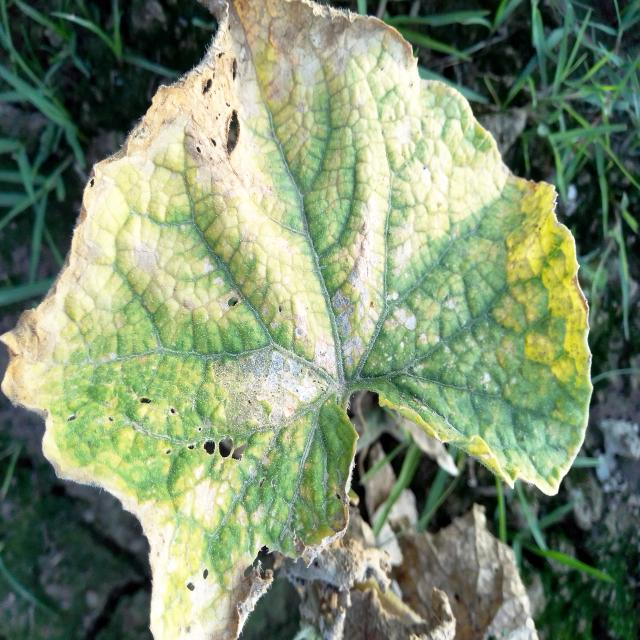Gummy-Stem-Blight: (0, 0, 421, 639)
